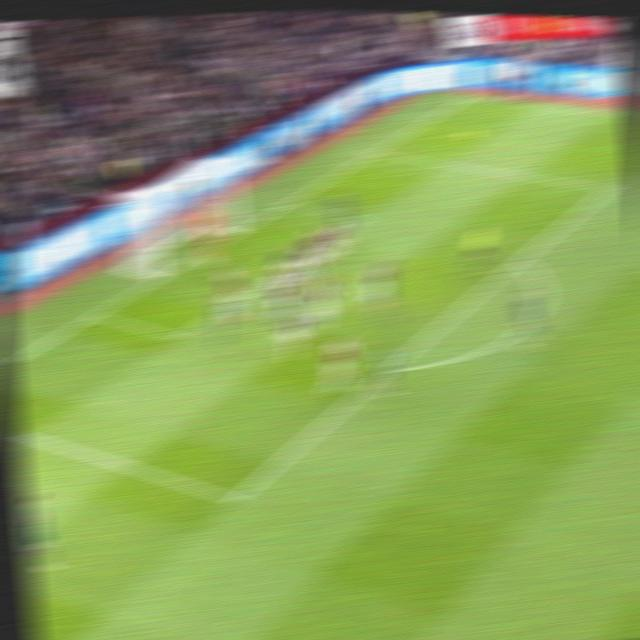bigarea_bottom_inner: (218, 480, 253, 516)
bigarea_top_inner: (597, 179, 623, 198)
bigarea_top_outter: (364, 147, 385, 157)
corner: (457, 94, 480, 102)
smallarea_bottom_inner: (165, 325, 192, 347)
smallarea_bottom_outter: (84, 304, 110, 322)
smallarea_top_inner: (347, 210, 370, 226)
smallarea_top_outter: (276, 194, 300, 211)
top_arc_area_intersection: (508, 251, 532, 267)
